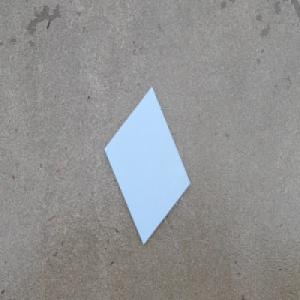PaintChip: (103, 85, 191, 247)
